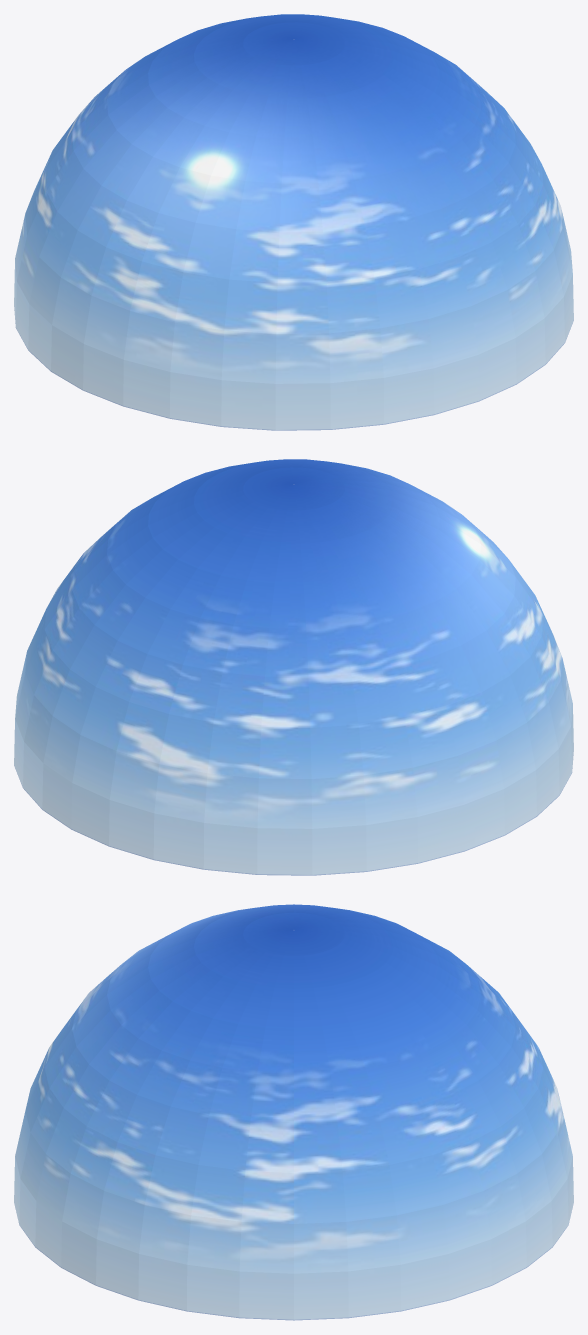
File: lugar-valencia-ciudad.glb
The picture shows the model from 3 angles, top to bottom: view 1: azimuth 30°, elevation 25°; view 2: azimuth 150°, elevation 25°; view 3: azimuth 270°, elevation 25°; orthographic projection.
Visible parts, largest first — view 1: planoC; view 2: planoC; view 3: planoC.
Part boxes in pixels (left/top/right/bottom): planoC: left=14, top=14, right=573, bottom=430; planoC: left=14, top=459, right=573, bottom=875; planoC: left=14, top=904, right=573, bottom=1320.
Bounding box in the file's own units: 5985 × 3209 × 5985.
28 materials, 19 textured.
